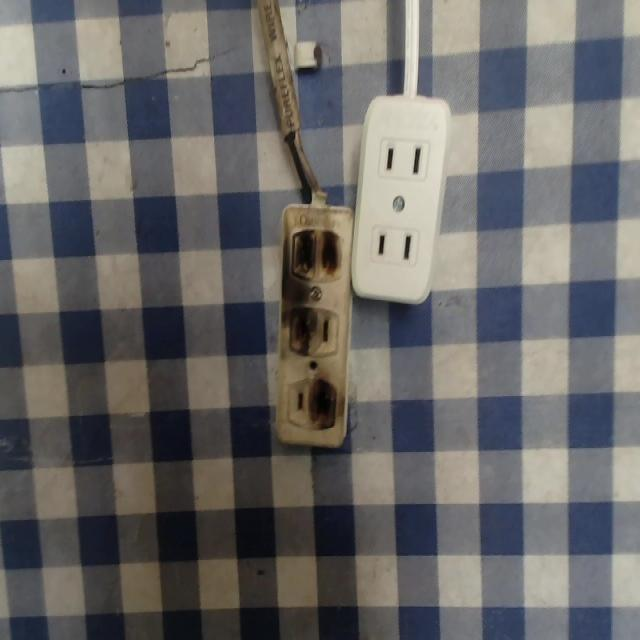-: (287, 226, 347, 282), (304, 380, 344, 432), (286, 308, 317, 361)
